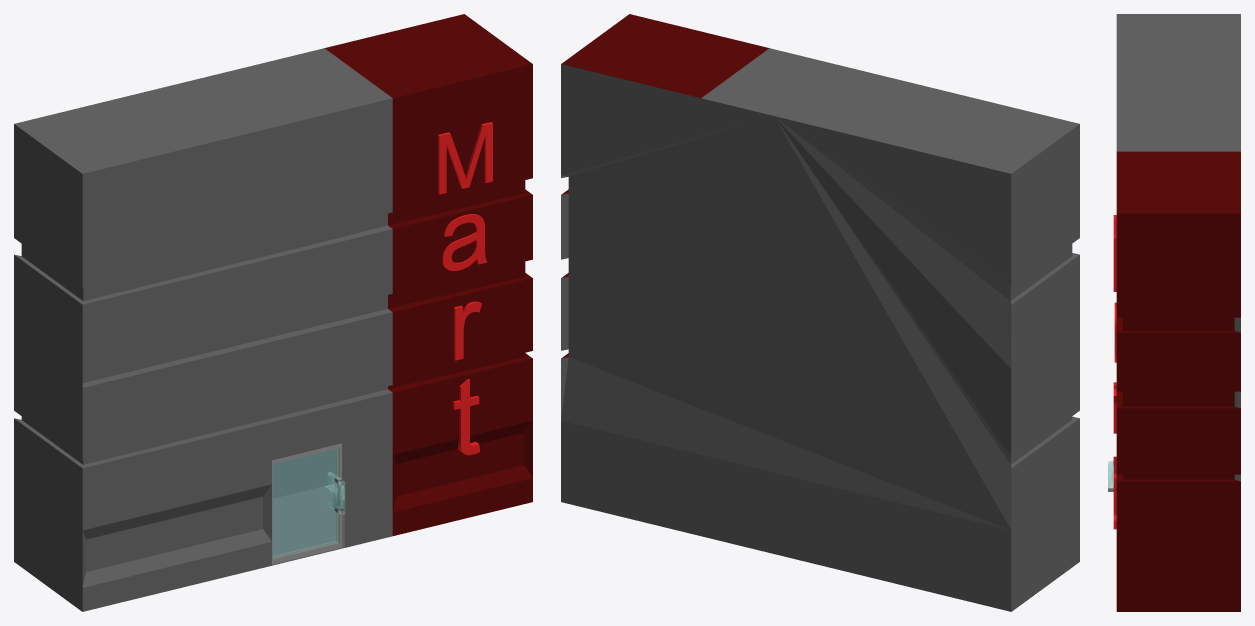
The model's file is mart@out_close.FBX.
3 renders of one model, left to right at view 1: azimuth 30°, elevation 25°; view 2: azimuth 150°, elevation 25°; view 3: azimuth 270°, elevation 25°, orthographic. The views are drawn at different scales.
Parts seen in each view (by area): view 1: Box001, Object002, Object003; view 2: Object003, Box001; view 3: Box001, Object003.
Part boxes in pixels (<box>): Box001: <box>14,14,532,611</box>; Object002: <box>272,443,345,564</box>; Object003: <box>273,442,344,498</box>; Object003: <box>561,64,1011,611</box>; Box001: <box>561,14,1079,611</box>; Box001: <box>1113,14,1240,611</box>; Object003: <box>1234,317,1240,481</box>.
Size of the model in its own units: 80 by 74.35 by 22.5.
